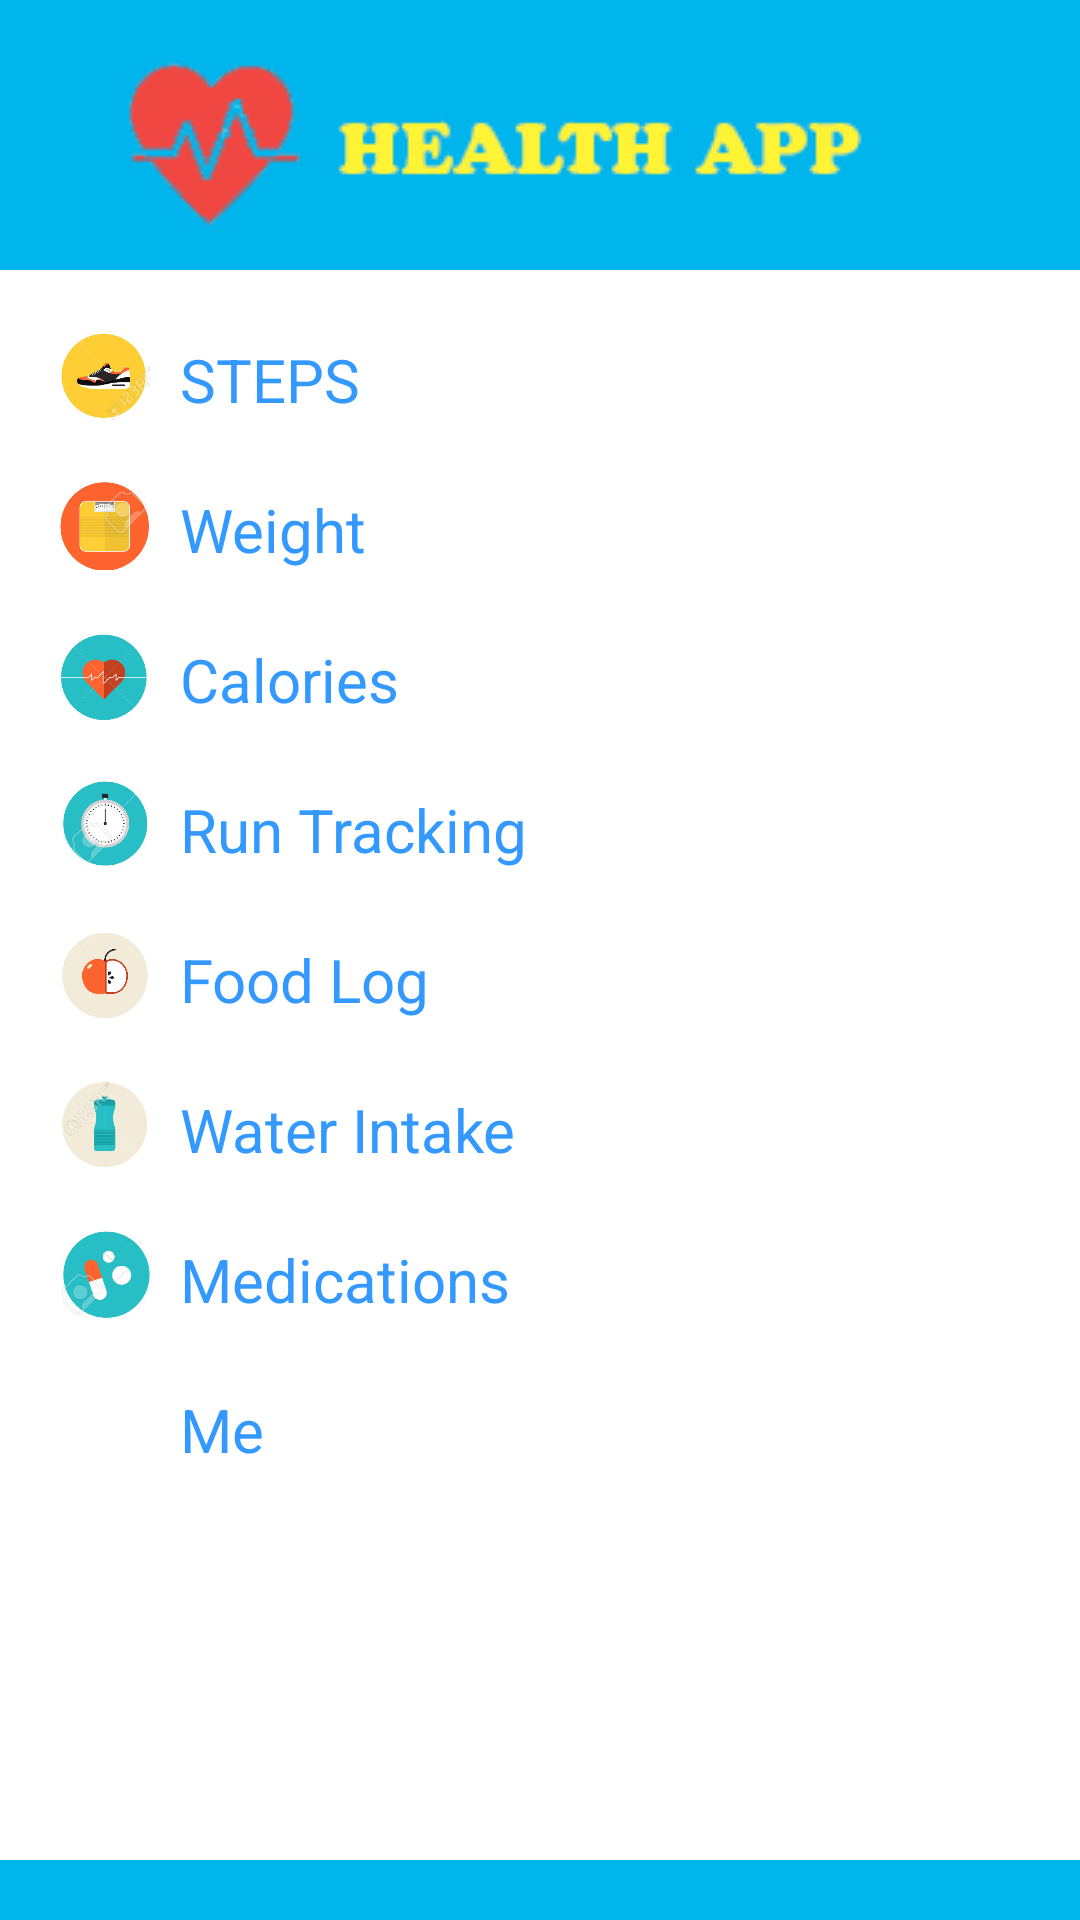

Named icons in this screenshot (1080px x 1920px) and their centers, [x,y]:
ncal: [104,677]
nfood: [105,975]
nmeds: [106,1274]
nwater: [104,1124]
